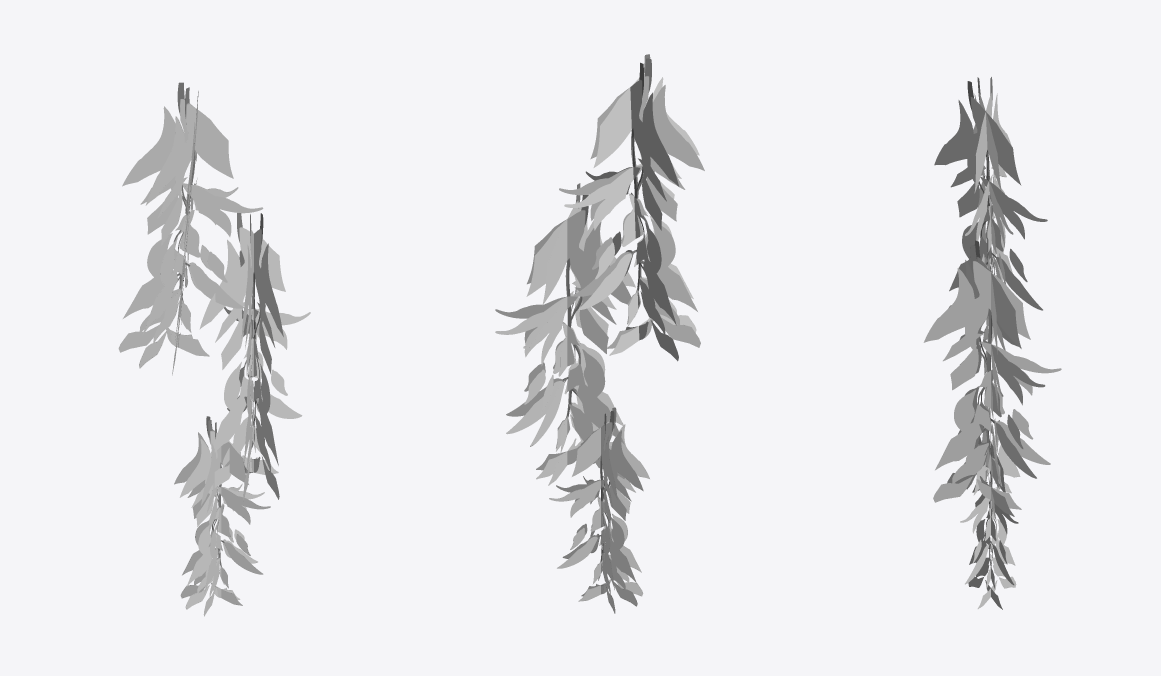
File: TreeLeaf2.fbx
3 views of the same model, side by side, from view 1: azimuth 30°, elevation 25°; view 2: azimuth 150°, elevation 25°; view 3: azimuth 270°, elevation 25° (orthographic). The views are drawn at different scales.
Parts seen in each view (by area): view 1: Plane010; view 2: Plane010; view 3: Plane010.
Part boxes in pixels (bbox=[...]): Plane010: bbox=[118, 82, 310, 616]; Plane010: bbox=[495, 54, 704, 613]; Plane010: bbox=[923, 77, 1061, 609].
Bounding box in the file's own units: 121 × 98.46 × 185.
